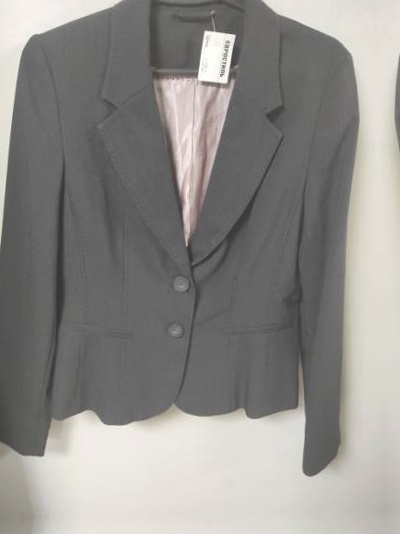Blazer: (0, 0, 382, 490), (378, 0, 400, 481), (390, 530, 400, 534)
